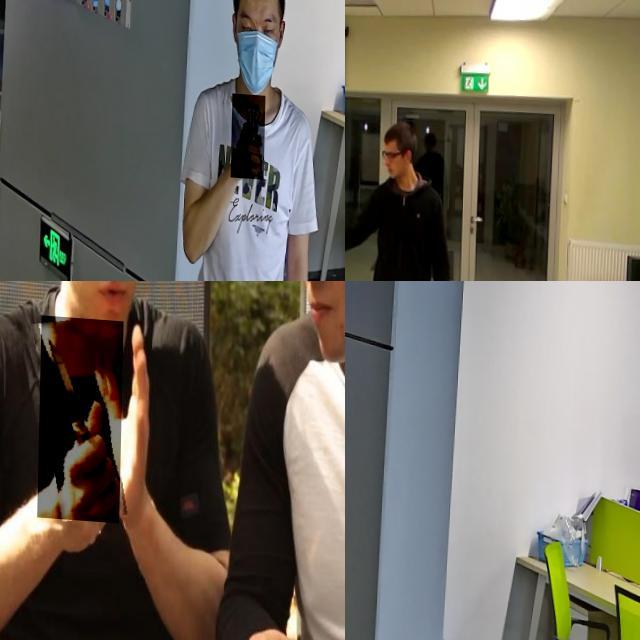-: (39, 314, 125, 520)
gun-knife-thesis - v11 Yolov5 augmented: (233, 89, 267, 175), (345, 375, 370, 448), (345, 202, 363, 245)
